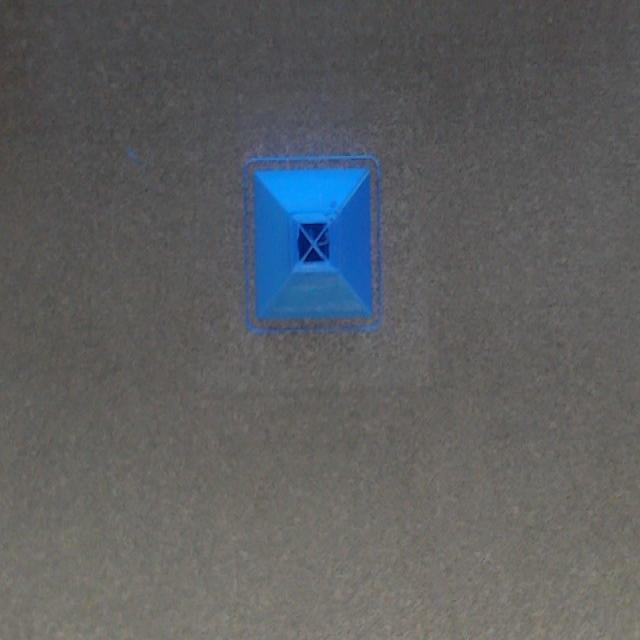mistake: (293, 213, 331, 267)
